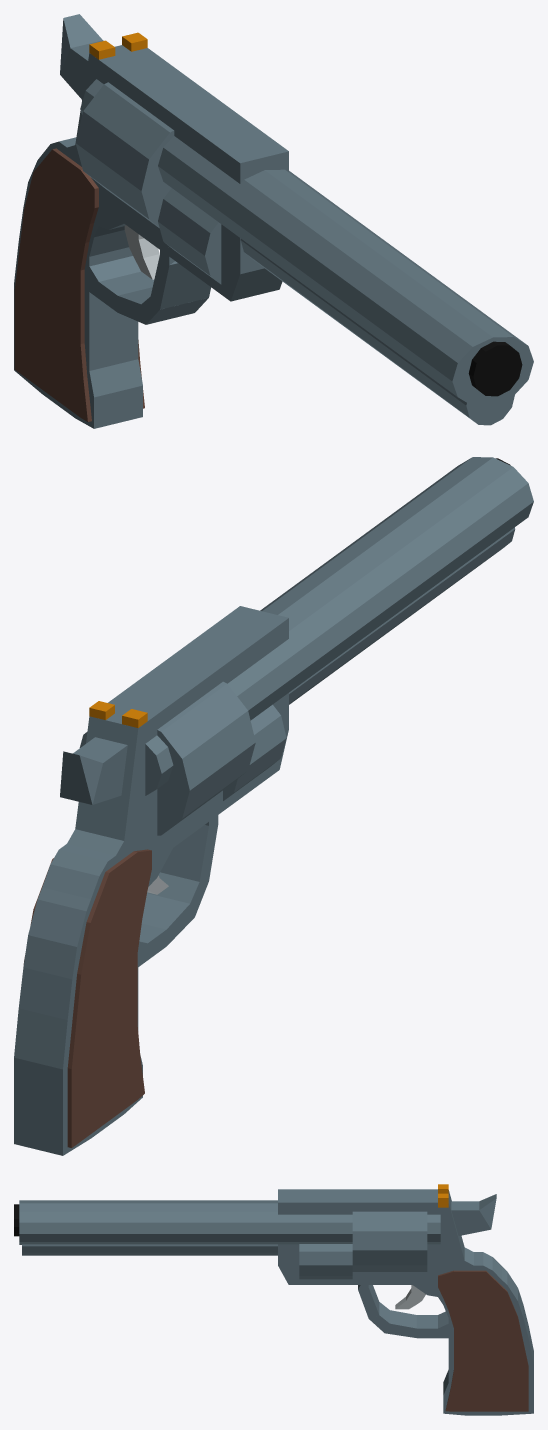
File: revolver.gltf
3 renders of one model, top to bottom at view 1: azimuth 30°, elevation 25°; view 2: azimuth 150°, elevation 25°; view 3: azimuth 270°, elevation 25°, orthographic. The views are drawn at different scales.
Parts seen in each view (by area): view 1: node_MeshObject-1384487360-PolyPaper16; view 2: node_MeshObject-1384487360-PolyPaper16; view 3: node_MeshObject-1384487360-PolyPaper16.
Part boxes in pixels (<box>): node_MeshObject-1384487360-PolyPaper16: <box>14,14,533,428</box>; node_MeshObject-1384487360-PolyPaper16: <box>14,457,533,1155</box>; node_MeshObject-1384487360-PolyPaper16: <box>14,1184,533,1415</box>.
Bounding box in the file's own units: 0.14 × 0.45 × 0.9751.
